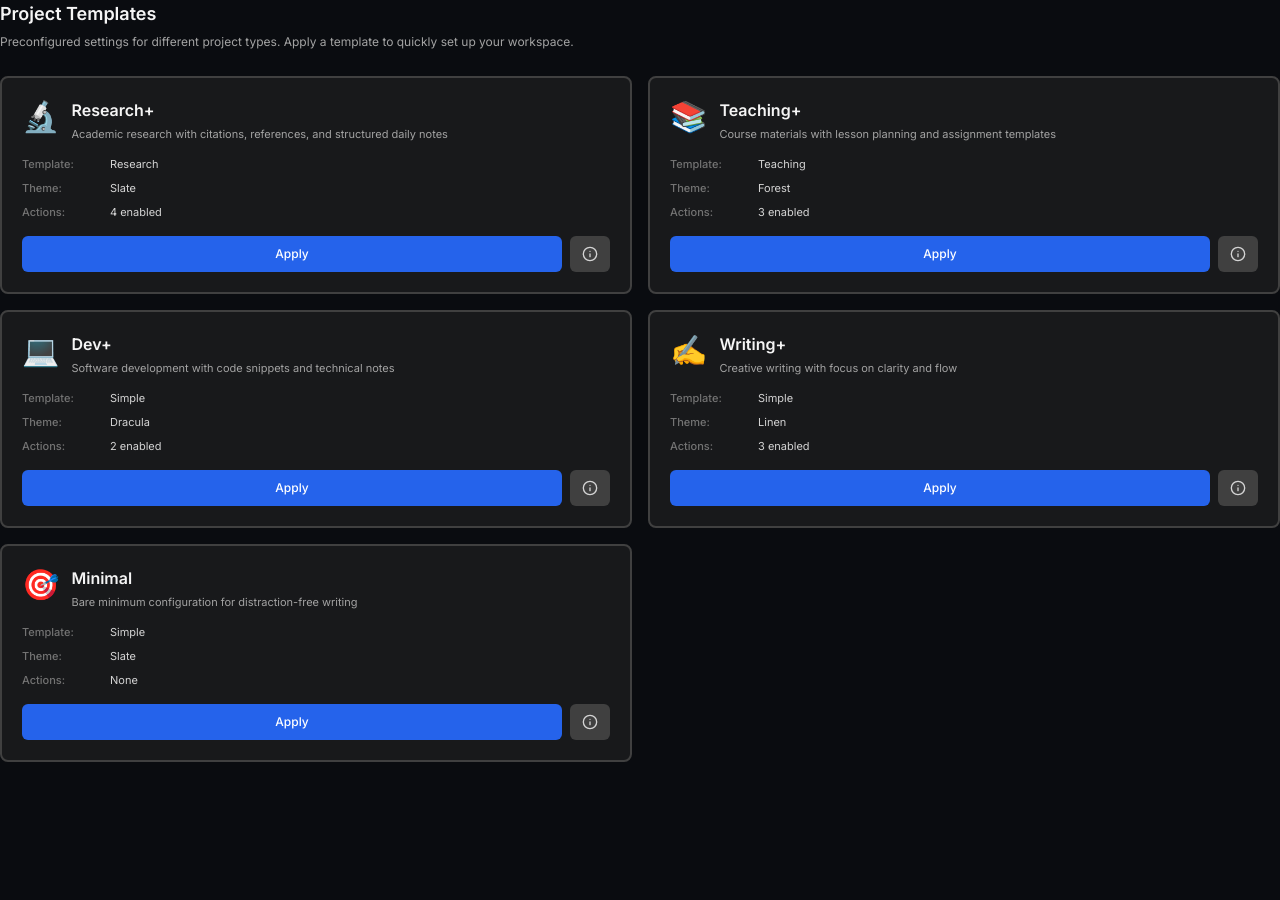
Test: ProjectTemplates › Show Details › should expand details when info button clicked
Click the 1st button titled "Show details" at (590, 254), box [570,236,610,272]
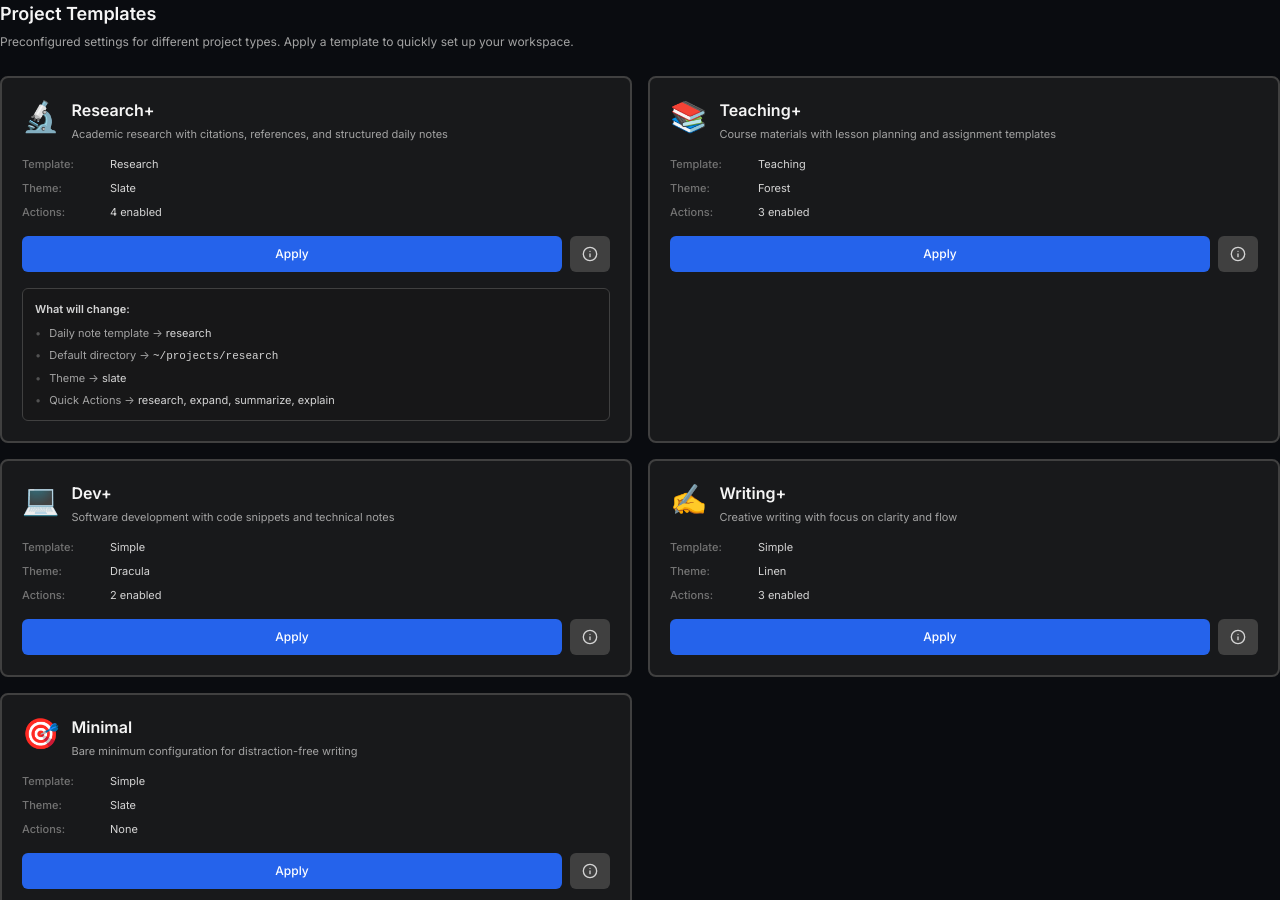
Result: the heading "What will change:" is shown at [35,302,130,316]
